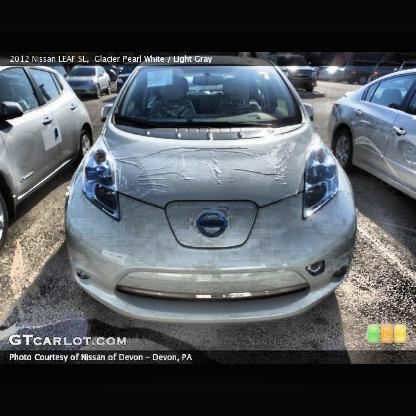Nissan Leaf Hatchback 2012: (64, 54, 360, 327)
